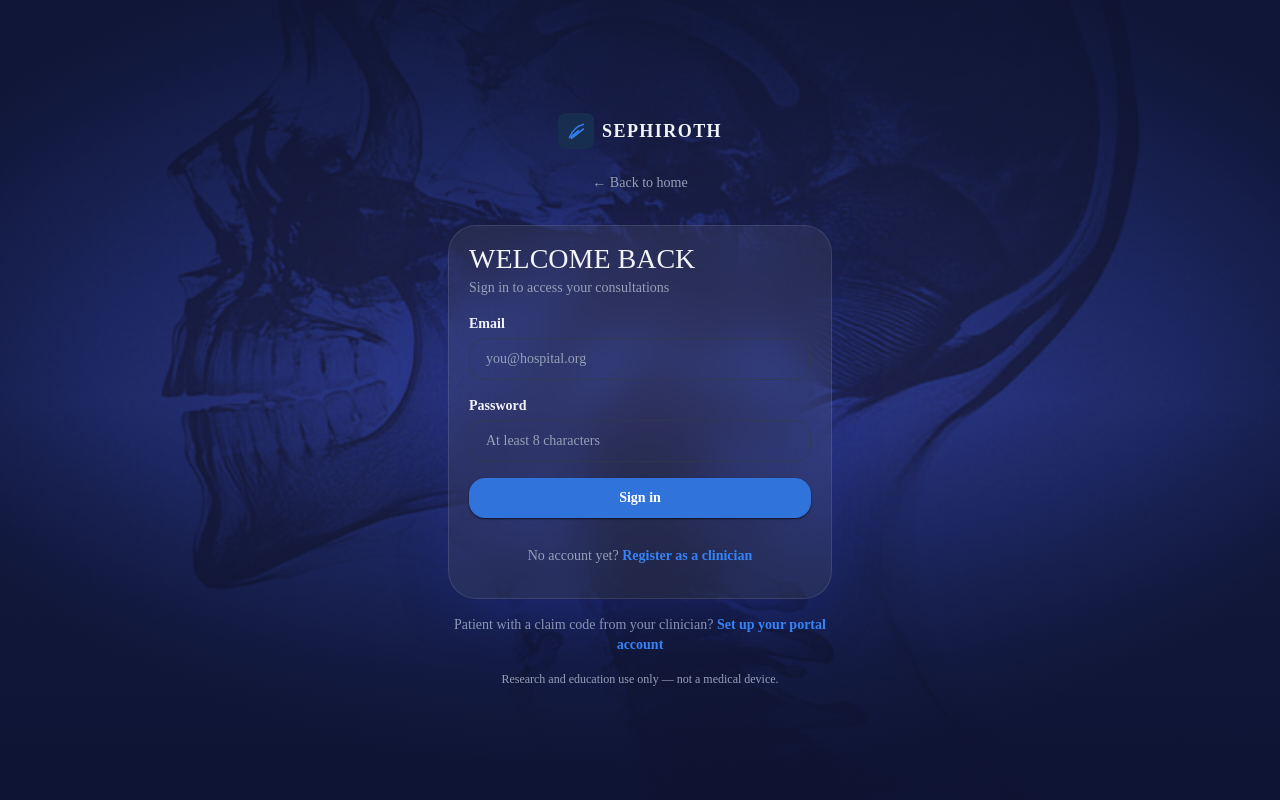
LoginPage error classification › renders emailTaken on a 409 during registration
Step 1. Click the button "Register as a clinician" → coordinates (687, 556), box [622,534,752,578]
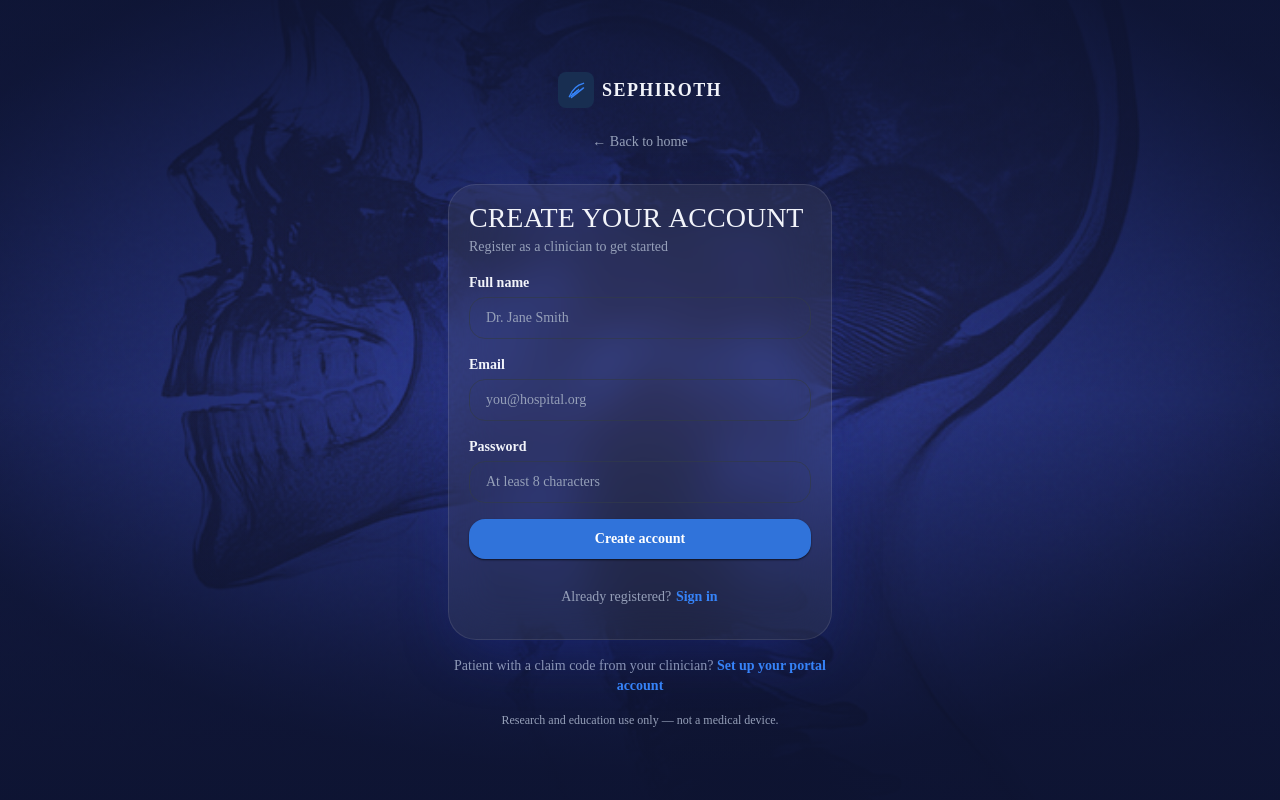
Step 2. Type "Dr. Test" into the field with placeholder "Dr. Jane Smith" → coordinates (640, 318), box [469,297,811,339]
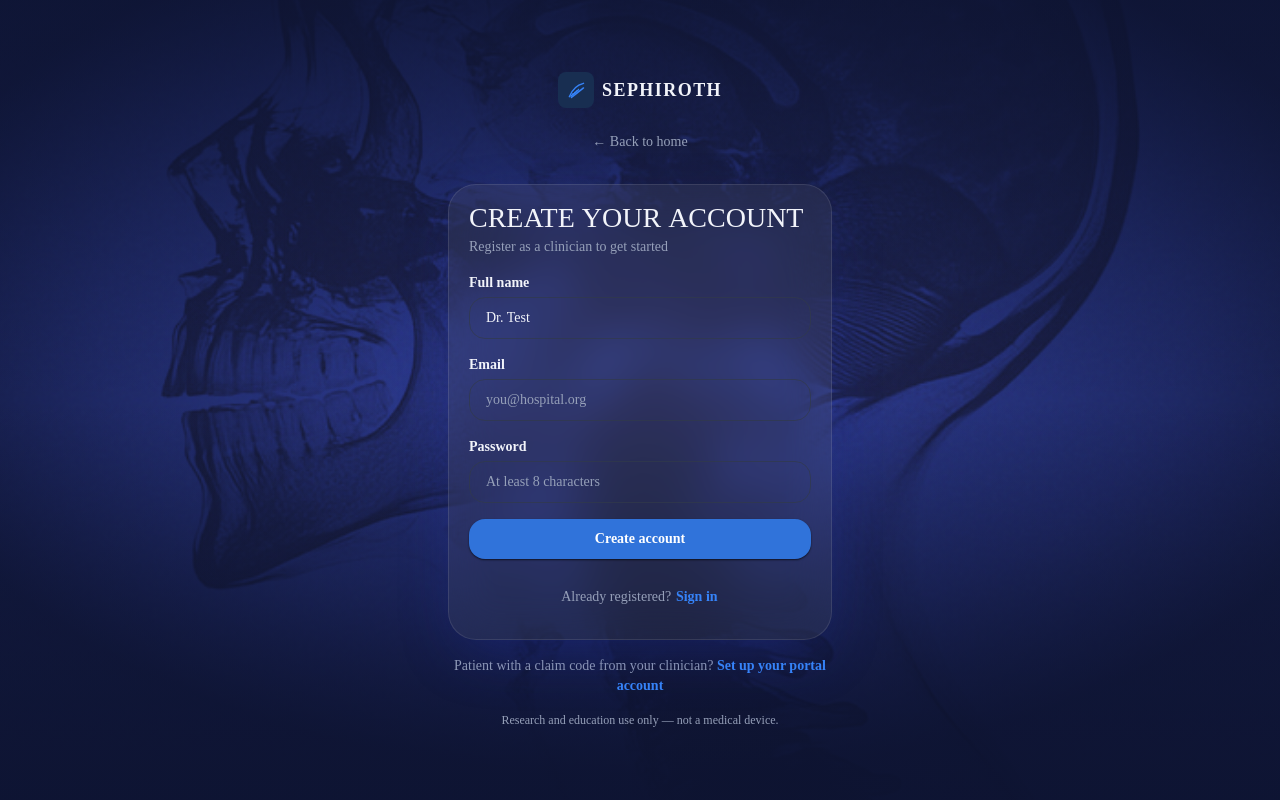
Step 3. Type "doc@example.org" into the field with placeholder "you@hospital.org" → coordinates (640, 400), box [469,379,811,421]
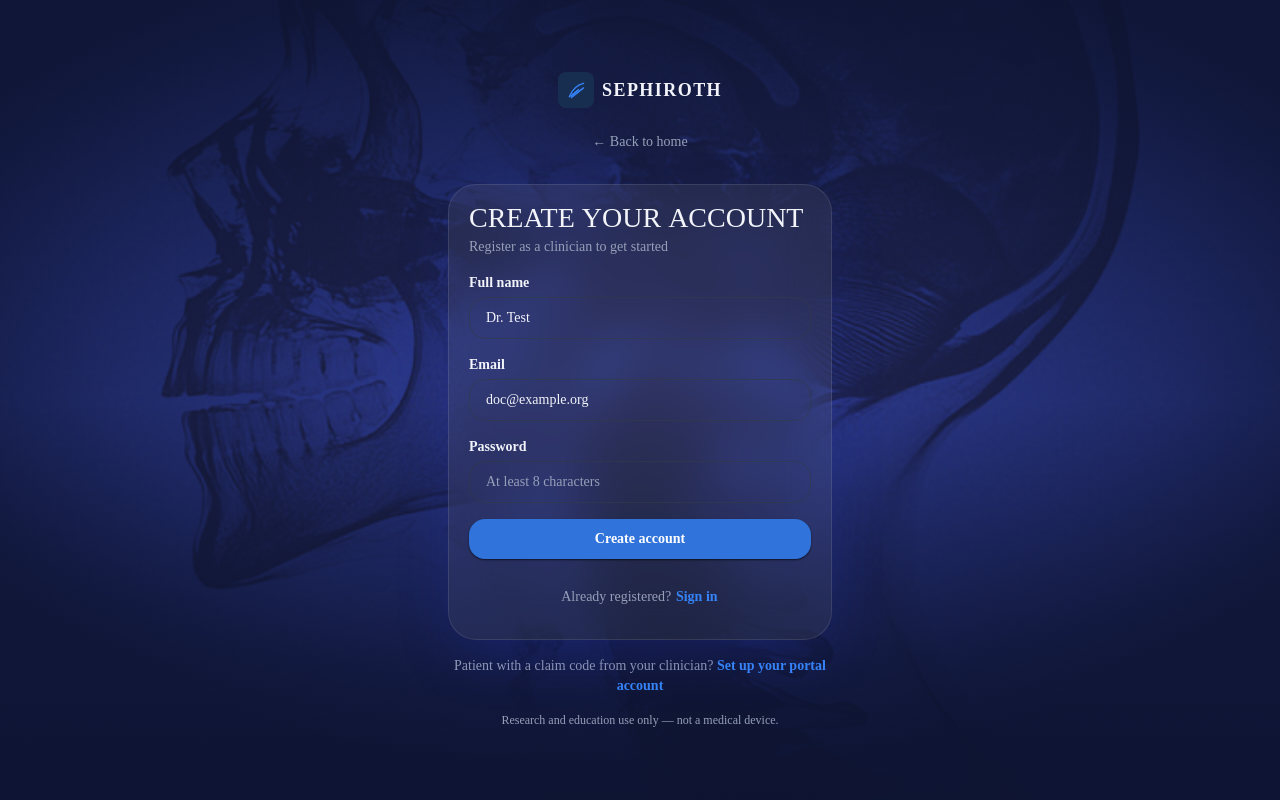
Step 4. Type "password123" into the password field with placeholder "At least 8 characters" → coordinates (640, 482), box [469,461,811,503]
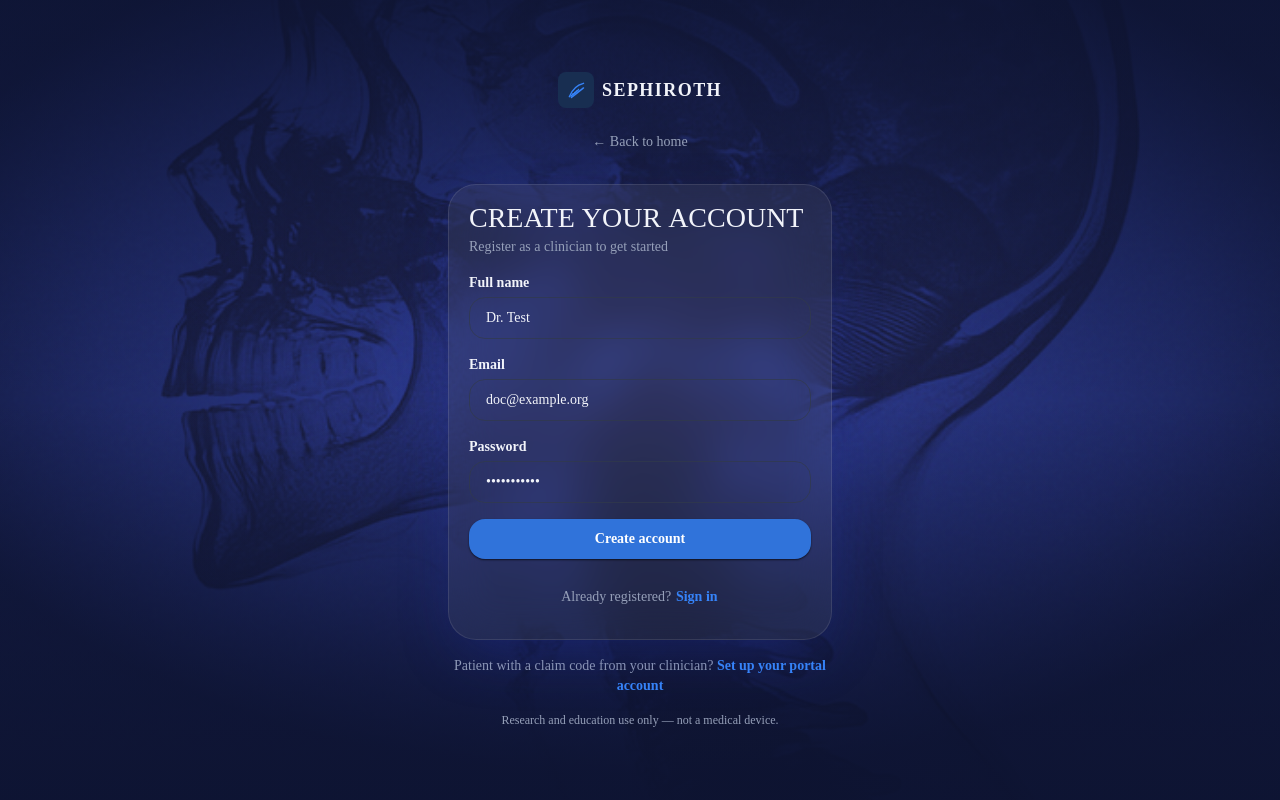
Step 5. Click the button "Create account" → coordinates (640, 539), box [469,519,811,559]
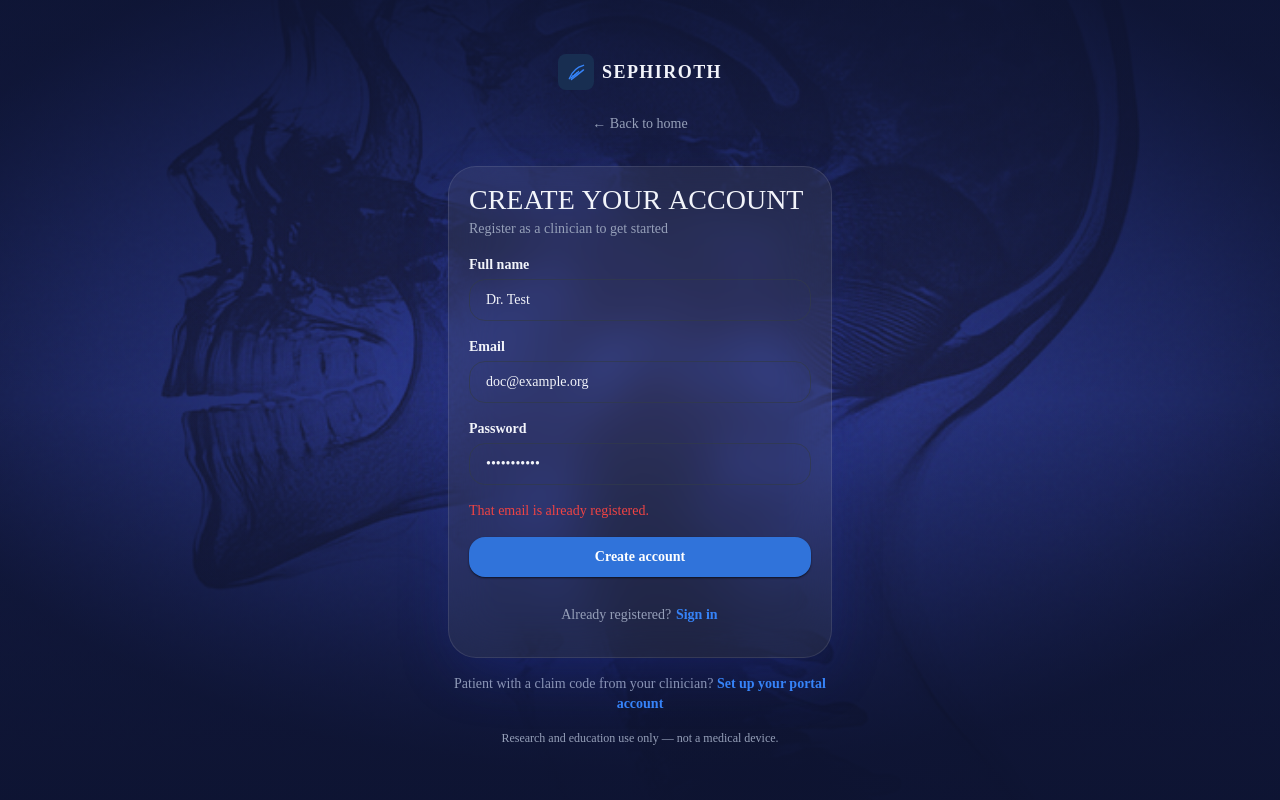
Now the text "That email is already registered." is shown, box [469,503,649,518]
